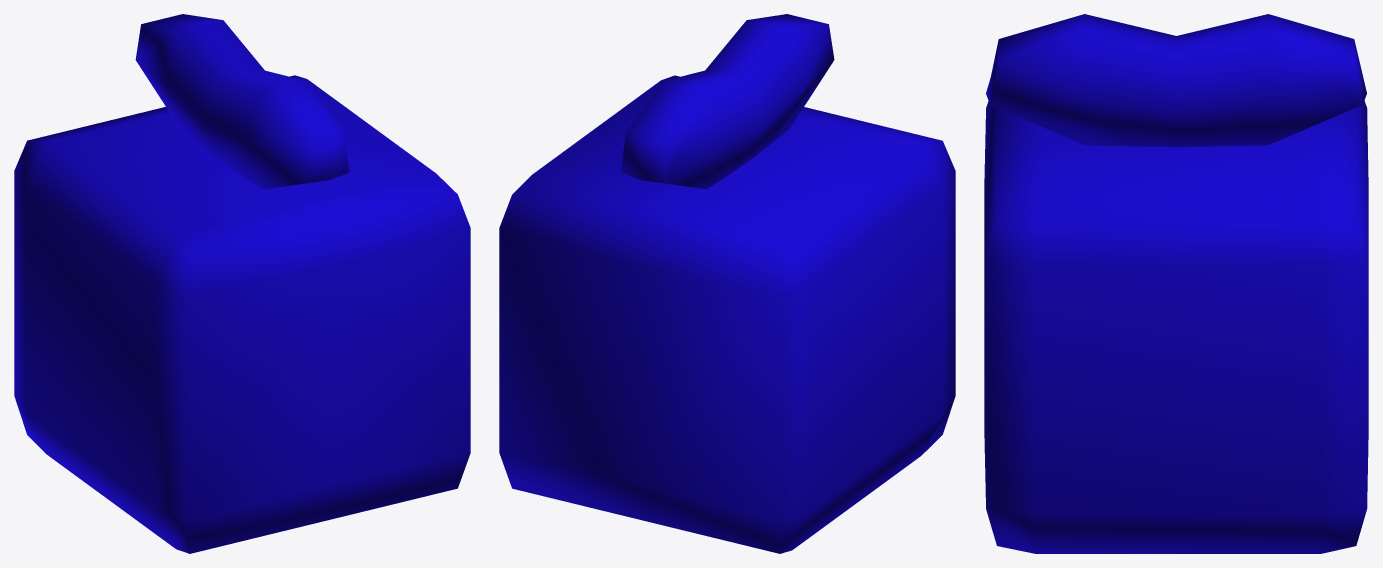
Rendered from gift_exp_mod_001.dae.
3 views of the same model, side by side, from view 1: azimuth 30°, elevation 25°; view 2: azimuth 150°, elevation 25°; view 3: azimuth 270°, elevation 25° (orthographic). The views are drawn at different scales.
Visible parts, largest first — view 1: gift; view 2: gift; view 3: gift.
Part boxes in pixels (bbox=[...]): gift: bbox=[14, 14, 470, 553]; gift: bbox=[499, 14, 955, 553]; gift: bbox=[984, 14, 1368, 553].
Size of the model in its own units: 1.99 by 1.99 by 2.64.
